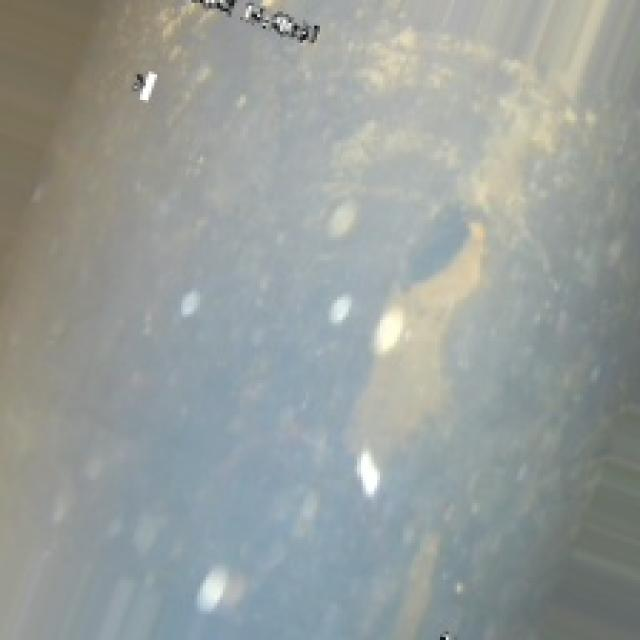pipe_surface_damage: (386, 203, 488, 403)
